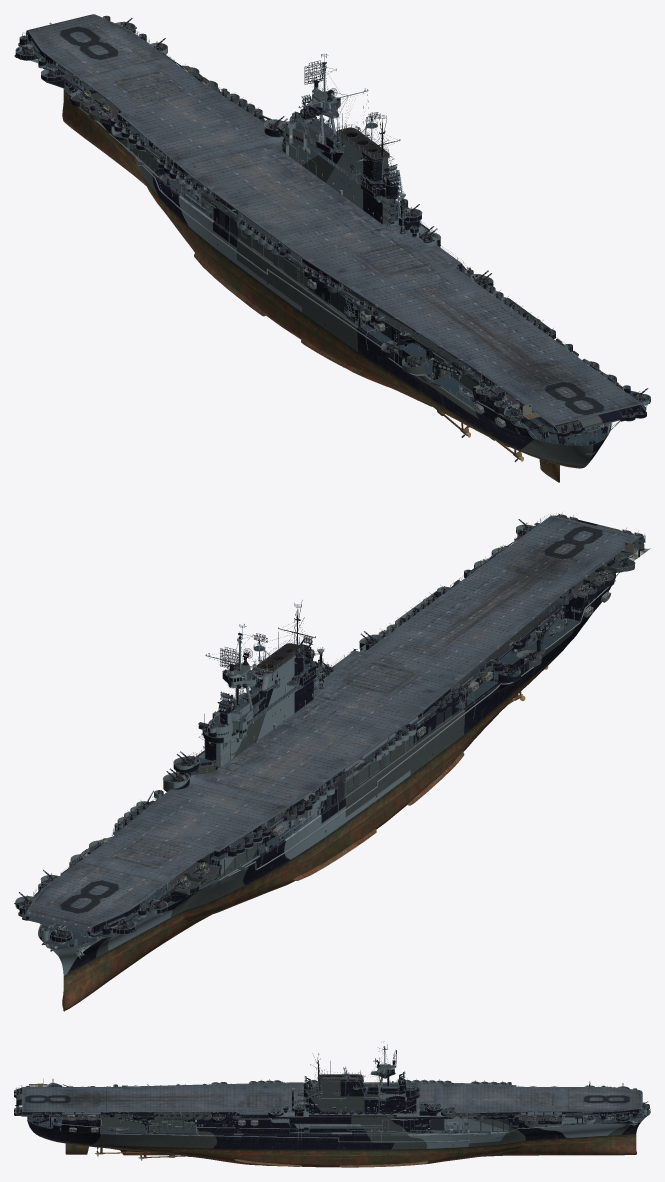
Rendered from hornet.glb.
3 views of the same model, one above another, from view 1: azimuth 30°, elevation 25°; view 2: azimuth 150°, elevation 25°; view 3: azimuth 270°, elevation 25° (orthographic). The views are drawn at different scales.
Parts seen in each view (by area): view 1: ad001_director_mk371_Enterprise_asa001_enterprise_1944_deckh (×2), ad001_director_mk371_Enterprise_asa001_enterprise_1944_hull_, ad001_director_mk371_Material #246_0, ad001_director_mk371_Enterprise_asa001_enterprise_1944_bulge, ad001_director_mk371_Material #29591_0, ad001_director_mk371_Enterprise_aga003_20mm_oerlikon_mk4_382, ad001_director_mk371_Enterprise_ags022_5in38_mk24_skinned_97; view 2: ad001_director_mk371_Enterprise_asa001_enterprise_1944_deckh (×2), ad001_director_mk371_Enterprise_asa001_enterprise_1944_hull_, ad001_director_mk371_Material #246_0, ad001_director_mk371_Enterprise_asa001_enterprise_1944_bulge, ad001_director_mk371_Enterprise_aga003_20mm_oerlikon_mk4_382, ad001_director_mk371_Enterprise_ags022_5in38_mk24_skinned_97, ad001_director_mk371_Enterprise_aga056_40mm_bofors_926_0; view 3: ad001_director_mk371_Enterprise_asa001_enterprise_1944_hull_, ad001_director_mk371_Enterprise_asa001_enterprise_1944_deckh (×2), ad001_director_mk371_Enterprise_asa001_enterprise_1944_bulge, ad001_director_mk371_Material #246_0, ad001_director_mk371_Material #29591_0, ad001_director_mk371_Enterprise_aga003_20mm_oerlikon_mk4_382, ad001_director_mk371_Enterprise_am073_floater_net_basket_941, ad001_director_mk371_Enterprise_am075_floater_net_basket_gri, ad001_director_mk371_Enterprise_am247_ammunition_box_950_0, ad001_director_mk371_Enterprise_am133_boat_7_705_0, ad001_director_mk371_Enterprise_ags022_5in38_mk24_skinned_97, ad001_director_mk371_Enterprise_aga002_40mm_bofors_mk1_777_0.
Part boxes in pixels (box(x1,y1,x2,y2)): ad001_director_mk371_Enterprise_asa001_enterprise_1944_deckh (×2): box(15, 14, 650, 445); ad001_director_mk371_Enterprise_asa001_enterprise_1944_hull_: box(24, 33, 645, 445); ad001_director_mk371_Material #246_0: box(28, 14, 641, 425); ad001_director_mk371_Enterprise_asa001_enterprise_1944_bulge: box(21, 17, 650, 482); ad001_director_mk371_Material #29591_0: box(462, 400, 607, 468); ad001_director_mk371_Enterprise_aga003_20mm_oerlikon_mk4_382: box(117, 92, 642, 433); ad001_director_mk371_Enterprise_ags022_5in38_mk24_skinned_97: box(76, 61, 615, 406); ad001_director_mk371_Enterprise_asa001_enterprise_1944_deckh (×2): box(15, 513, 650, 946); ad001_director_mk371_Enterprise_asa001_enterprise_1944_hull_: box(18, 522, 645, 984); ad001_director_mk371_Material #246_0: box(28, 515, 639, 925); ad001_director_mk371_Enterprise_asa001_enterprise_1944_bulge: box(25, 516, 640, 1011); ad001_director_mk371_Enterprise_aga003_20mm_oerlikon_mk4_382: box(122, 512, 640, 849); ad001_director_mk371_Enterprise_ags022_5in38_mk24_skinned_97: box(74, 541, 608, 889); ad001_director_mk371_Enterprise_aga056_40mm_bofors_926_0: box(166, 631, 540, 782); ad001_director_mk371_Enterprise_asa001_enterprise_1944_hull_: box(17, 1078, 650, 1154); ad001_director_mk371_Enterprise_asa001_enterprise_1944_deckh (×2): box(14, 1041, 650, 1142); ad001_director_mk371_Enterprise_asa001_enterprise_1944_bulge: box(16, 1064, 636, 1167); ad001_director_mk371_Material #246_0: box(22, 1085, 638, 1112); ad001_director_mk371_Material #29591_0: box(27, 1119, 117, 1148); ad001_director_mk371_Enterprise_aga003_20mm_oerlikon_mk4_382: box(16, 1078, 505, 1117); ad001_director_mk371_Enterprise_am073_floater_net_basket_941: box(51, 1085, 581, 1122); ad001_director_mk371_Enterprise_am075_floater_net_basket_gri: box(51, 1086, 581, 1122); ad001_director_mk371_Enterprise_am247_ammunition_box_950_0: box(32, 1082, 644, 1119); ad001_director_mk371_Enterprise_am133_boat_7_705_0: box(68, 1116, 611, 1132); ad001_director_mk371_Enterprise_ags022_5in38_mk24_skinned_97: box(60, 1086, 565, 1121); ad001_director_mk371_Enterprise_aga002_40mm_bofors_mk1_777_0: box(34, 1079, 648, 1121).
Bounding box in the file's own units: 40.13 × 54.41 × 251.
75 materials, 73 textured.
